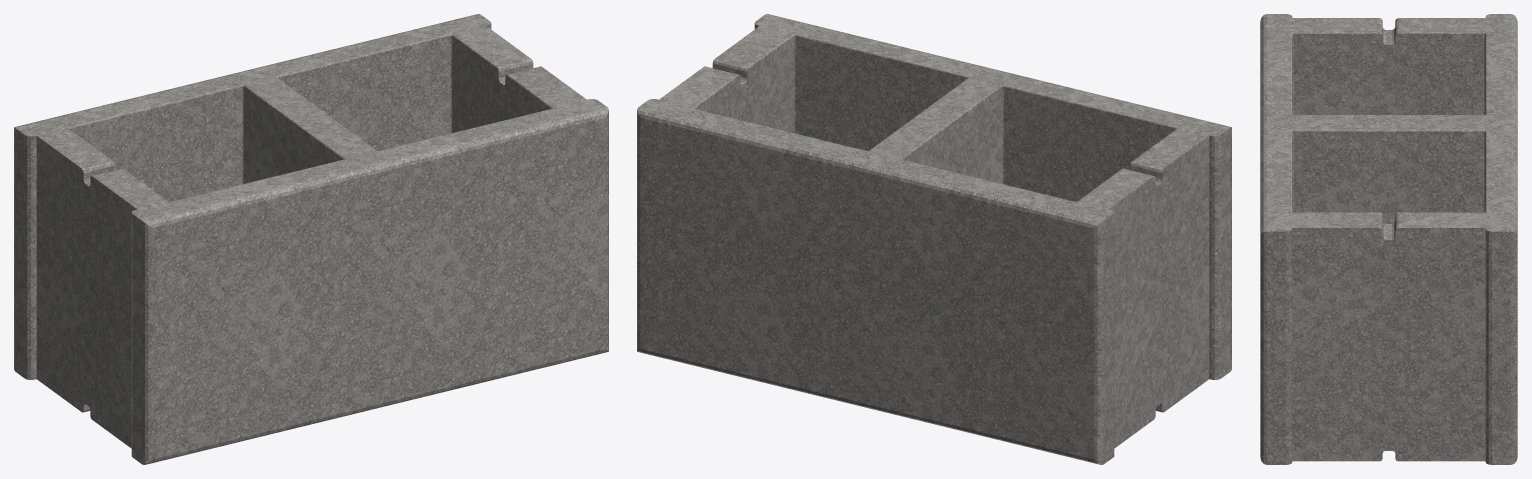
File: cinder.glb
The picture shows the model from 3 angles, left to right: view 1: azimuth 30°, elevation 25°; view 2: azimuth 150°, elevation 25°; view 3: azimuth 270°, elevation 25°; orthographic projection. The views are drawn at different scales.
Parts seen in each view (by area): view 1: Cube_0; view 2: Cube_0; view 3: Cube_0.
Boxes of the visible parts, box(x1,y1,x2,y2) form: Cube_0: box(14, 14, 608, 464); Cube_0: box(637, 14, 1231, 464); Cube_0: box(1260, 14, 1517, 464).
Bounding box in the file's own units: 4 × 2 × 2.
1 material, 1 textured.
